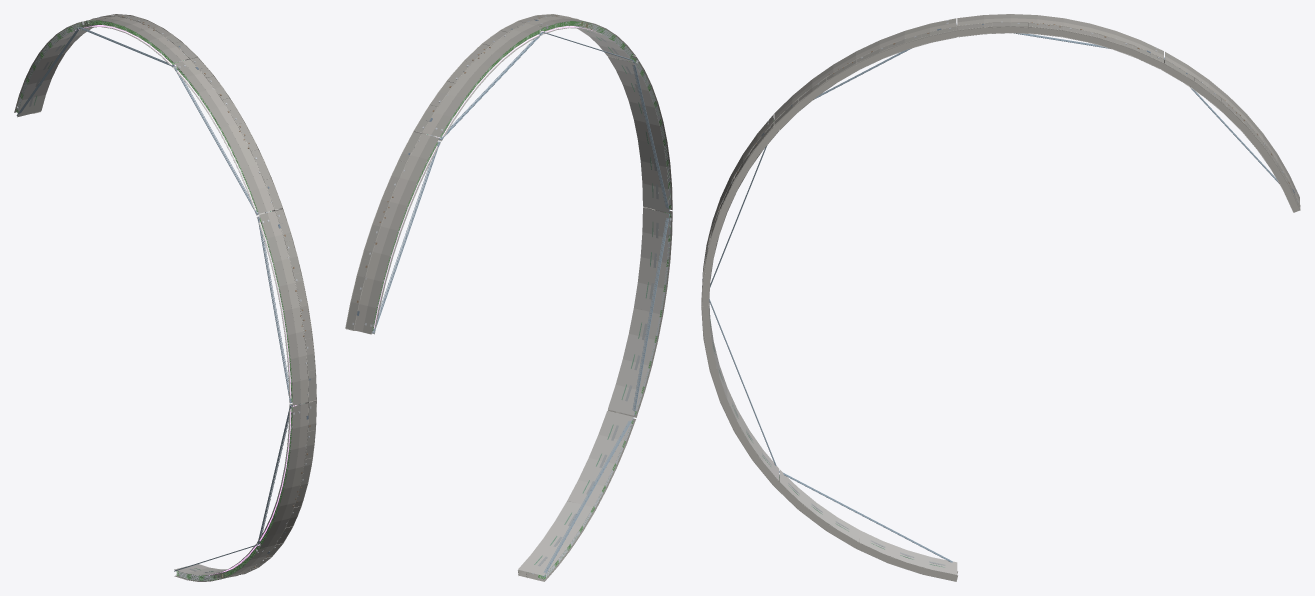
Rendered from xuanshu_interior_C26.glb.
The picture shows the model from 3 angles, left to right: view 1: azimuth 30°, elevation 25°; view 2: azimuth 150°, elevation 25°; view 3: azimuth 270°, elevation 25°; orthographic projection. The views are drawn at different scales.
Parts seen in each view (by area): view 1: UNIT-AGR-005, UNIT-AGR-004; view 2: UNIT-AGR-005, UNIT-AGR-004; view 3: UNIT-AGR-004, UNIT-AGR-005.
Boxes of the visible parts, x1=… form: UNIT-AGR-005: x1=174, y1=208, x2=316, y2=581; UNIT-AGR-004: x1=14, y1=14, x2=282, y2=215; UNIT-AGR-005: x1=518, y1=56, x2=672, y2=581; UNIT-AGR-004: x1=345, y1=14, x2=635, y2=334; UNIT-AGR-004: x1=774, y1=14, x2=1300, y2=212; UNIT-AGR-005: x1=701, y1=114, x2=957, y2=581.
Bounding box in the file's own units: 13.31 × 273 × 267.
